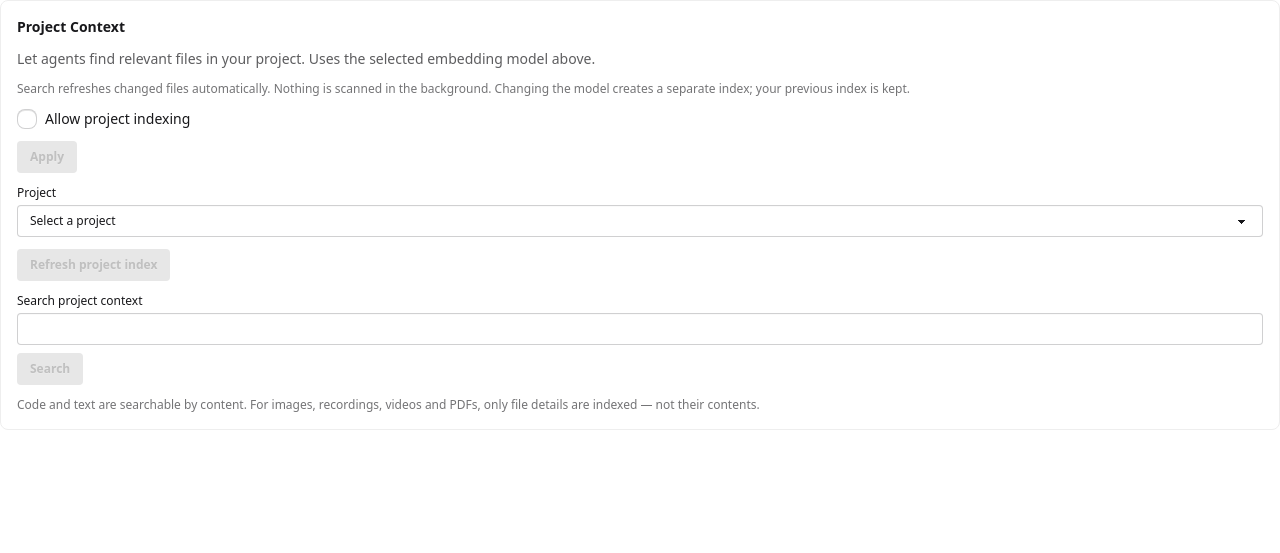
Test: ProjectContextCard › enables first search after applying indexing to an already selected project
The image size is (1280, 553).
Expected: the checkbox labelled "Allow project indexing" is enabled, [17,109,37,129]
Select "Other" in the dropdown labelled "Project" at (640, 221), box [17,205,1263,237]
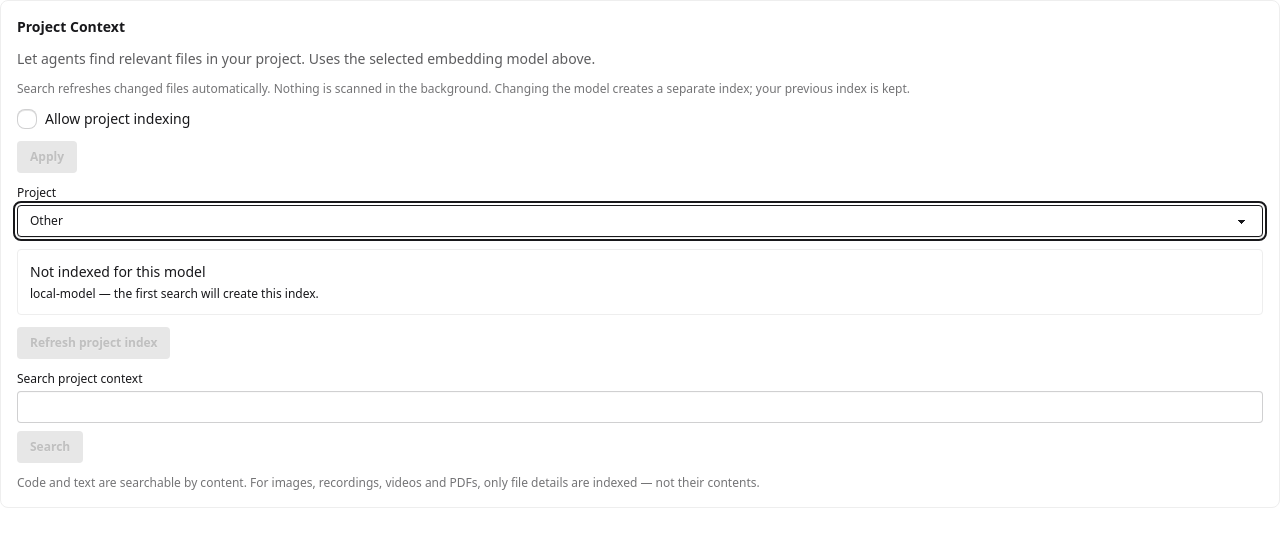
Expected: the text "Not indexed for this model" is shown, [30,262,206,281]
Type "  contact  " into the field labelled "Search project context".
click(640, 407); type("  contact  ")  # box [17,391,1263,423]
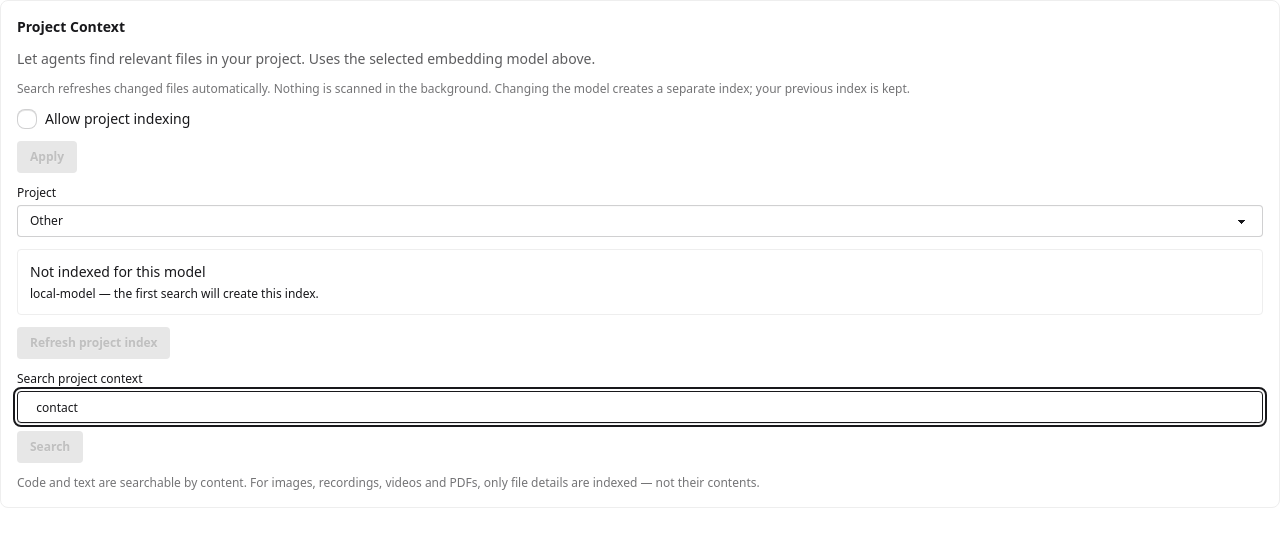
Click the checkbox labelled "Allow project indexing".
click(27, 119)  # box [17,109,37,129]
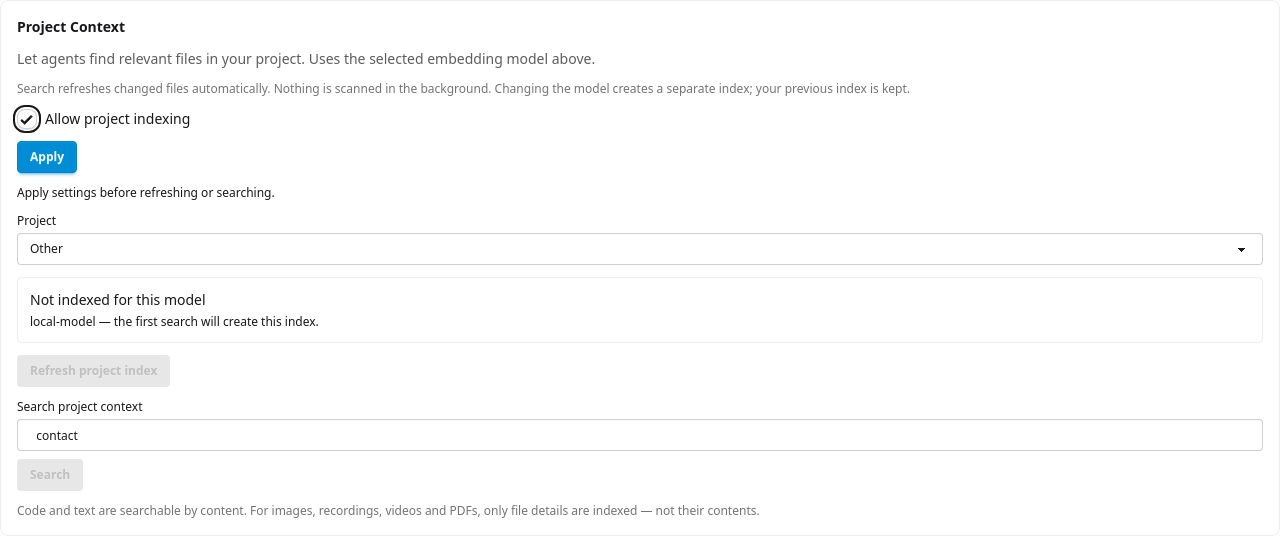
Click the button "Apply".
click(47, 157)  # box [17,141,77,173]
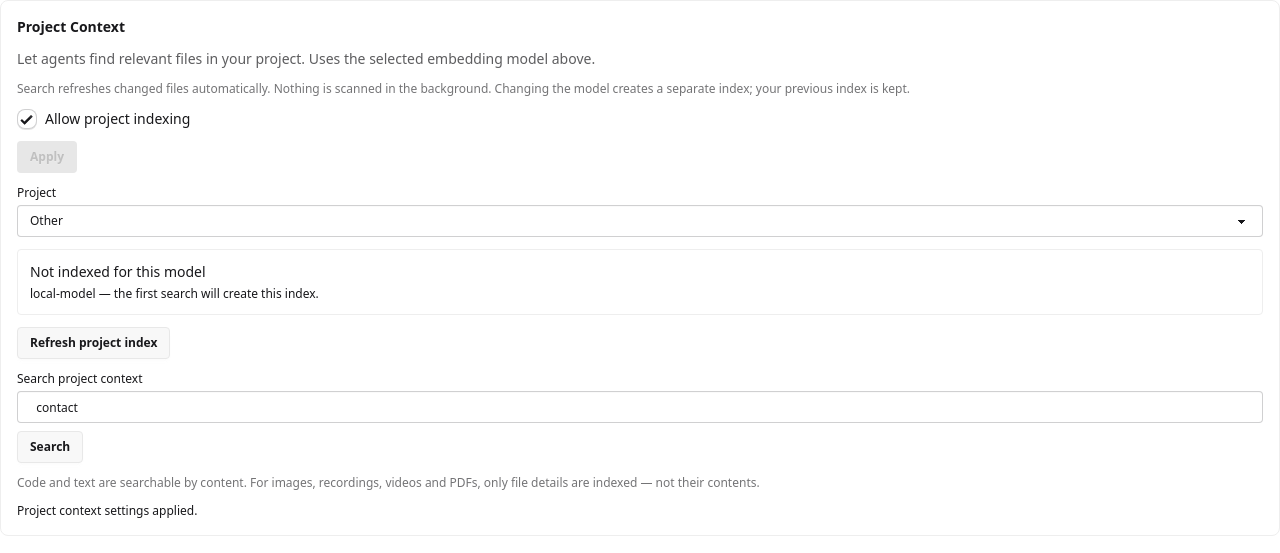
Expected: the text "Project context settings applied." is shown, [17,502,197,519]
Expected: the button "Search" is enabled
Click the button "Search".
click(50, 447)  # box [17,431,83,463]
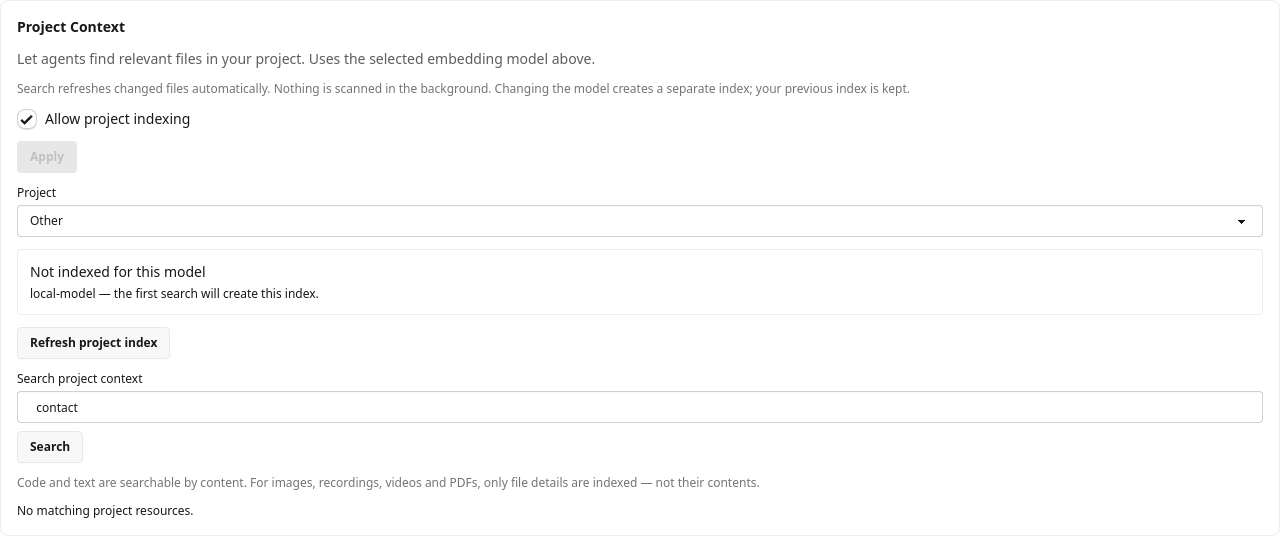
Expected: the text "No matching project resources." is shown, [17,502,194,519]
